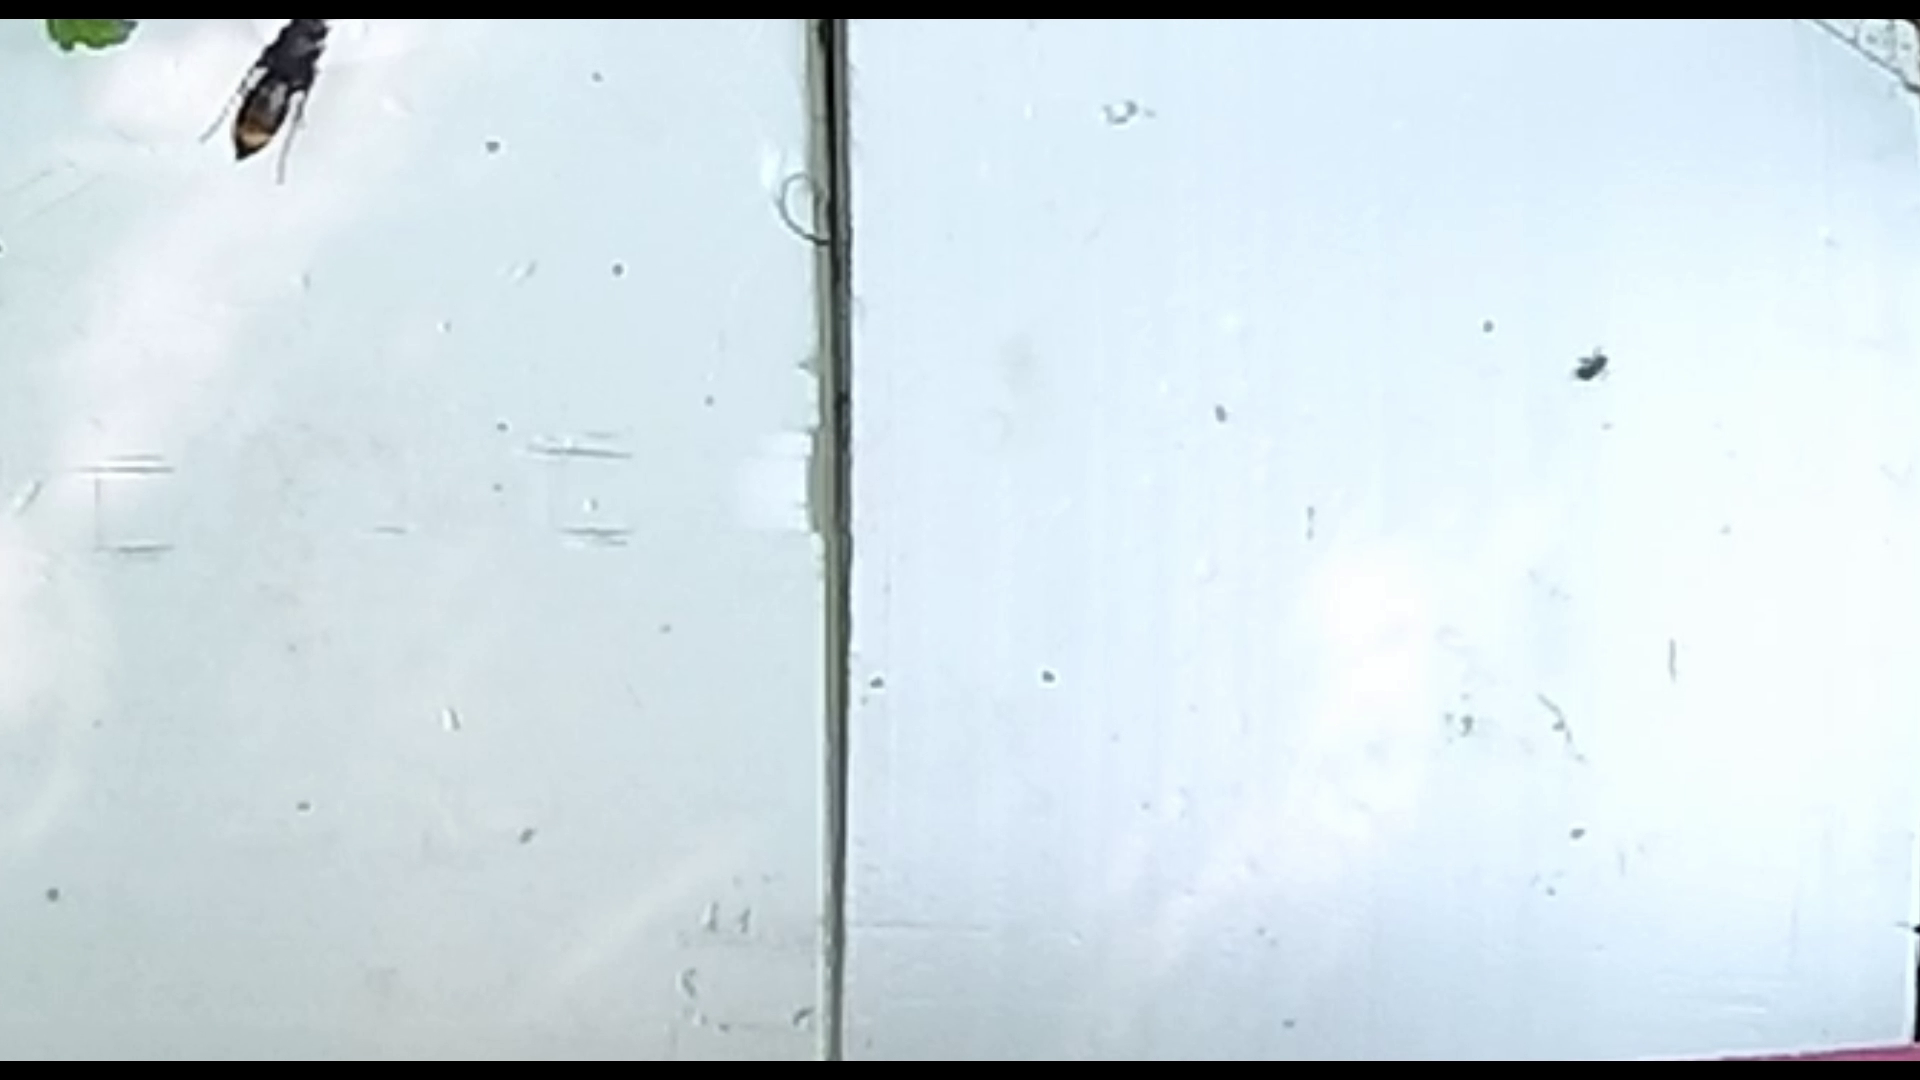Asian_hornets: (195, 21, 344, 196)
